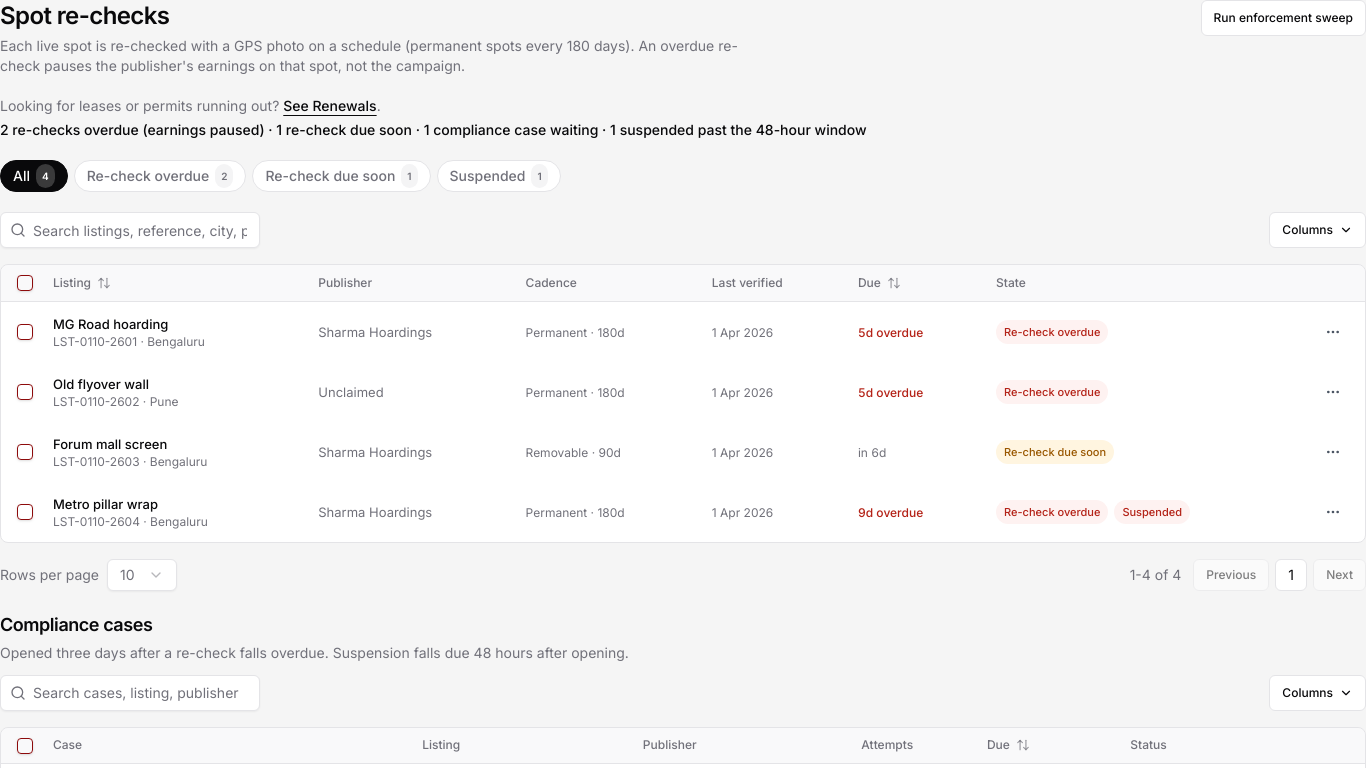
Test: the layout › narrows the table by chip
Click the tab "Re-check due soon 1".
click(342, 176)  # box [252, 160, 431, 192]
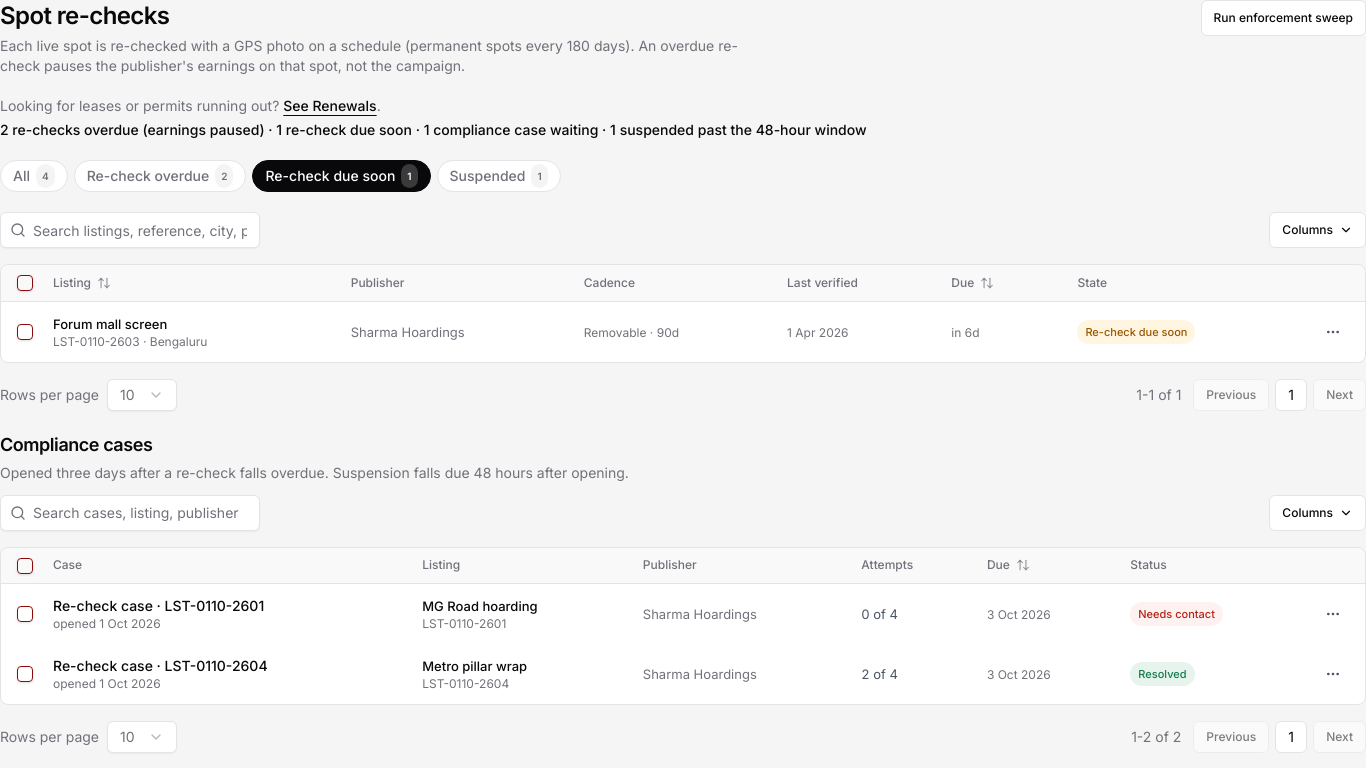
Expected: the link "Forum mall screen" is shown, [53, 316, 167, 332]
Result: the link "Old flyover wall" is gone
Click the tab "Suspended 1".
click(499, 176)  # box [437, 160, 561, 192]
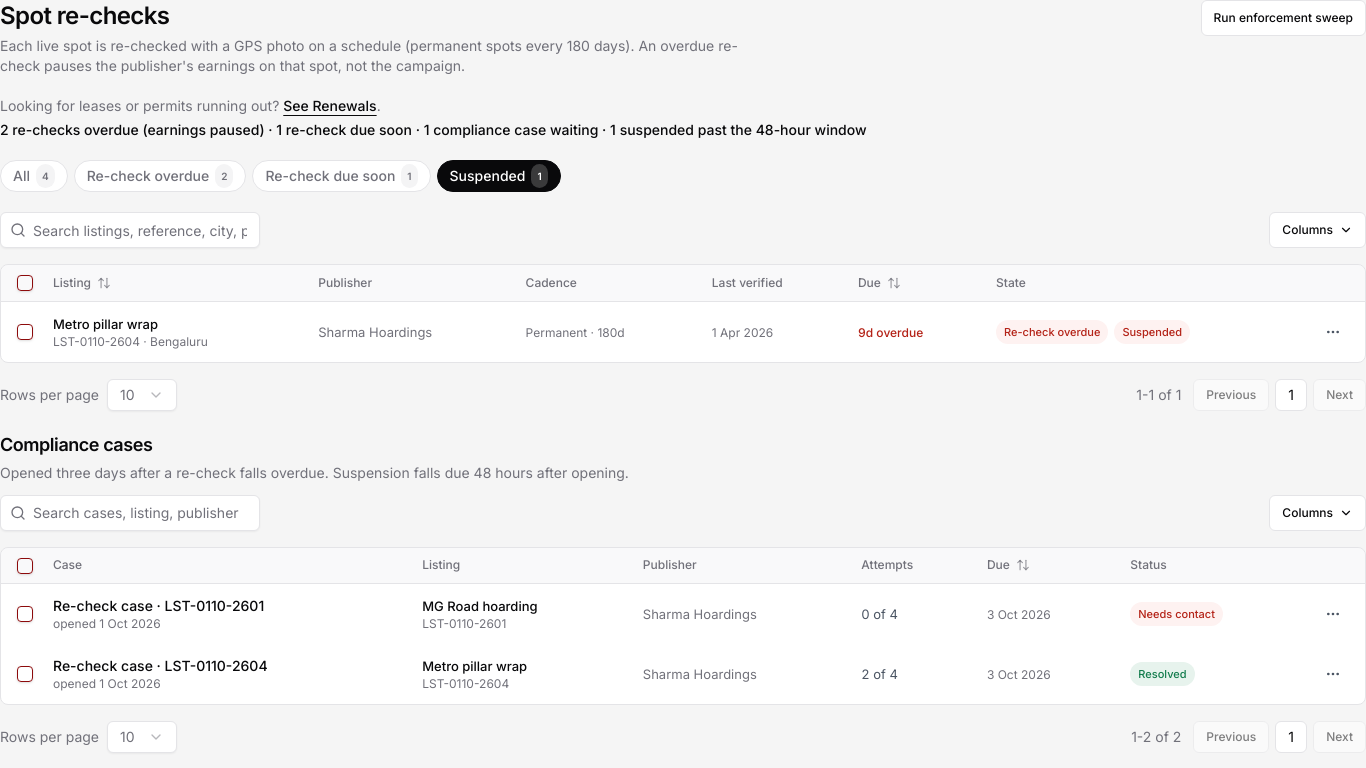
Result: the link "Metro pillar wrap" in the row of "1 Apr 2026" is shown at [53, 316, 158, 332]
Result: the link "Forum mall screen" is gone
